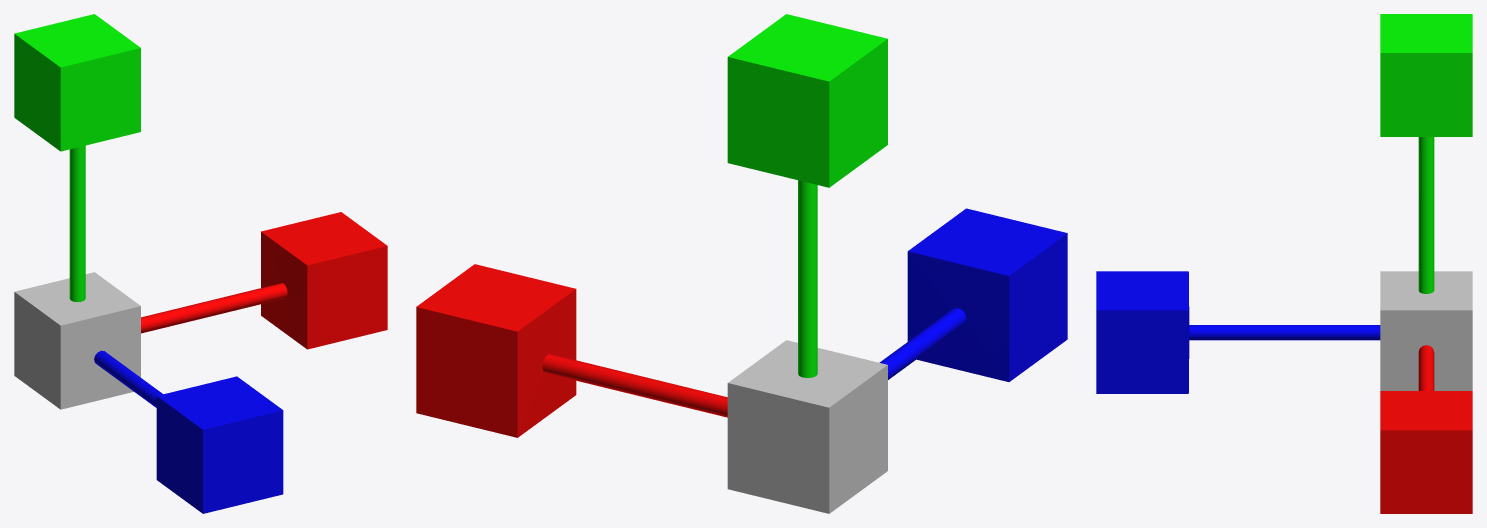
The model's file is gizmo_scale.obj.
3 renders of one model, left to right at view 1: azimuth 30°, elevation 25°; view 2: azimuth 150°, elevation 25°; view 3: azimuth 270°, elevation 25°, orthographic. The views are drawn at different scales.
Visible parts, largest first — view 1: scale_axis_y, scale_axis_x, scale_axis_z, scale_axis_all; view 2: scale_axis_y, scale_axis_x, scale_axis_z, scale_axis_all; view 3: scale_axis_z, scale_axis_y, scale_axis_x, scale_axis_all.
Boxes of the visible parts, left/top/right/bottom form: scale_axis_y: left=14, top=14, right=140, bottom=302; scale_axis_x: left=141, top=212, right=387, bottom=349; scale_axis_z: left=94, top=350, right=283, bottom=513; scale_axis_all: left=14, top=272, right=140, bottom=409; scale_axis_y: left=727, top=14, right=887, bottom=377; scale_axis_x: left=416, top=264, right=727, bottom=437; scale_axis_z: left=879, top=208, right=1067, bottom=381; scale_axis_all: left=727, top=340, right=887, bottom=513; scale_axis_z: left=1096, top=271, right=1380, bottom=393; scale_axis_y: left=1380, top=14, right=1472, bottom=293; scale_axis_x: left=1380, top=345, right=1472, bottom=513; scale_axis_all: left=1380, top=271, right=1472, bottom=390.
Size of the model in its own units: 1.14 by 1.14 by 1.14.
